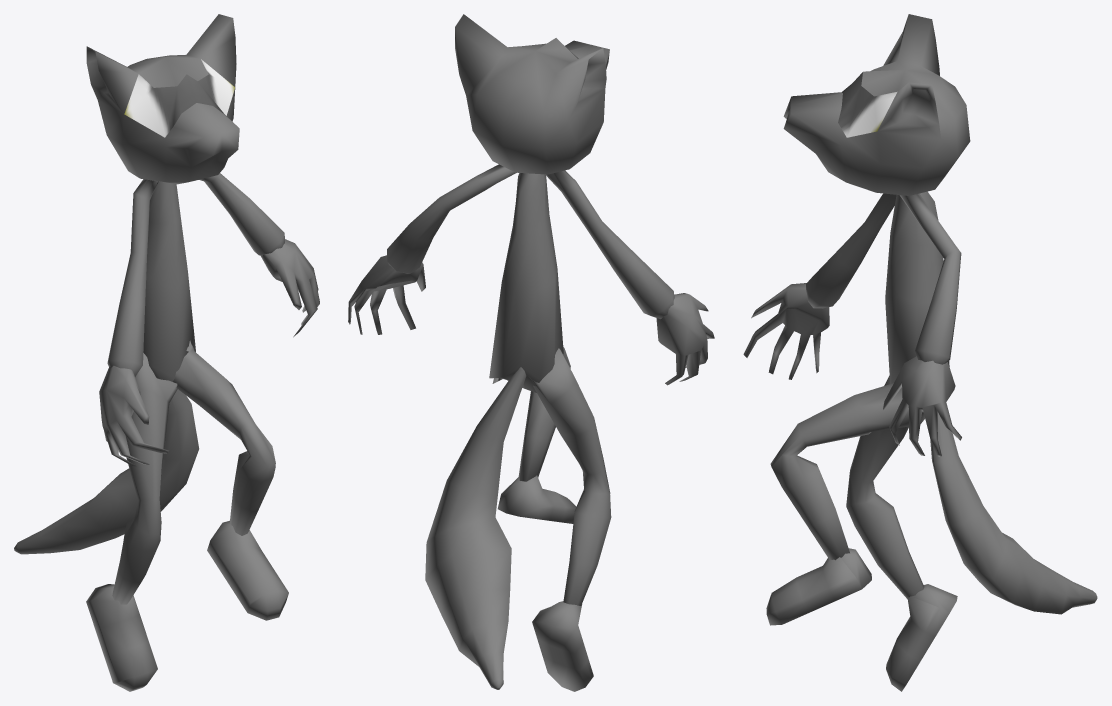
Rendered from werewolfjump1.obj.
The picture shows the model from 3 angles, left to right: view 1: azimuth 30°, elevation 25°; view 2: azimuth 150°, elevation 25°; view 3: azimuth 270°, elevation 25°; orthographic projection.
Visible parts, largest first — view 1: Sphere001, Object001; view 2: Sphere001; view 3: Sphere001, Object001.
Part boxes in pixels (box(x1,y1,x2,y2)): Sphere001: box(14, 14, 319, 691); Object001: box(124, 59, 234, 137); Sphere001: box(348, 14, 714, 691); Sphere001: box(743, 14, 1097, 691); Object001: box(838, 72, 897, 137).
Size of the model in its own units: 76.96 by 171 by 83.22.
